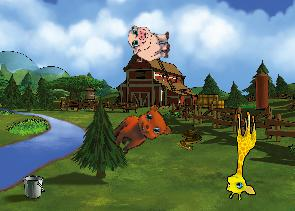bear: (106, 97, 176, 166)
giraffe: (225, 110, 256, 200)
pig: (128, 24, 170, 62)
